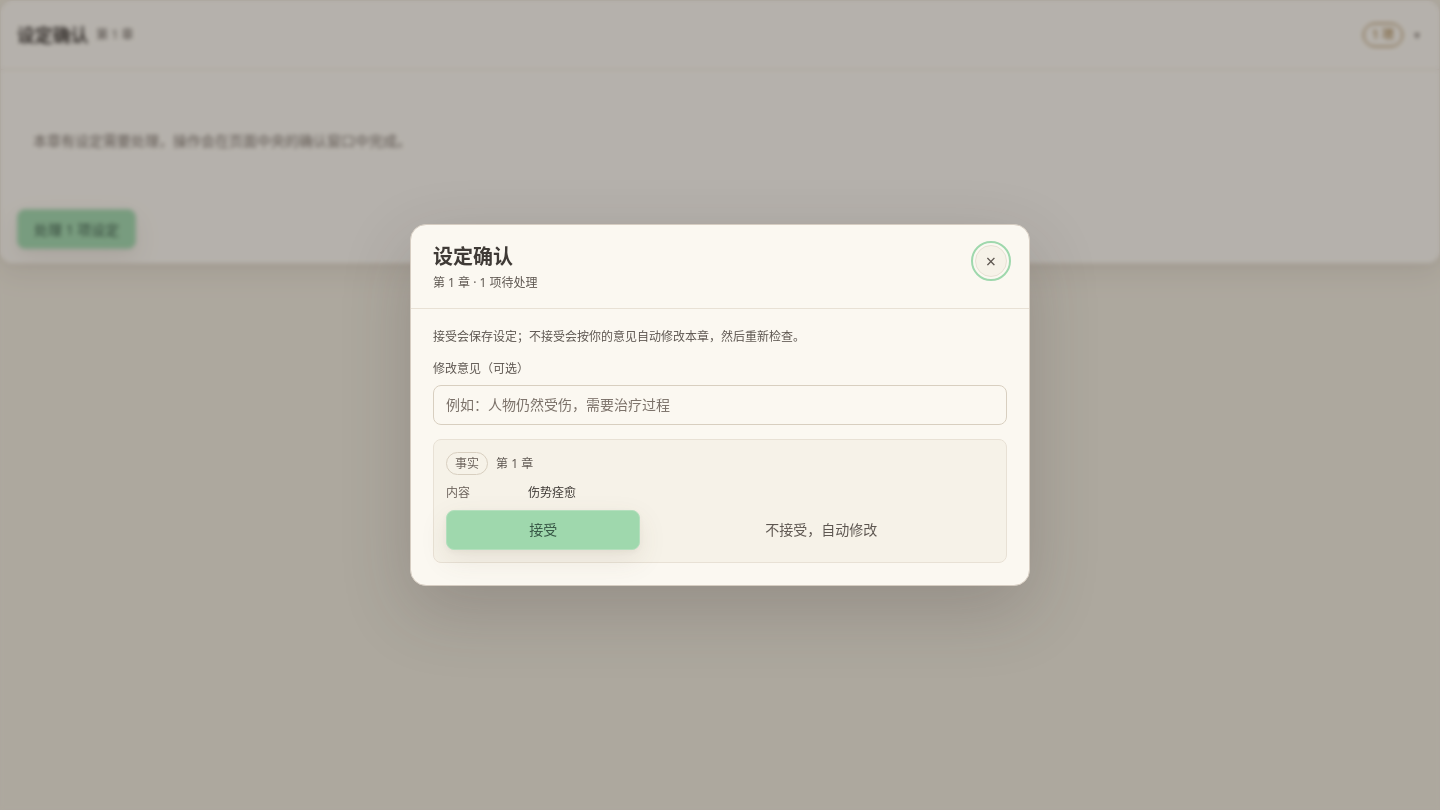
Test case: one rejection saves the reason and starts revision without another click
Type "需要治疗" into the field labelled "修改意见（可选）" at x=720, y=405, box [433,385,1007,425]
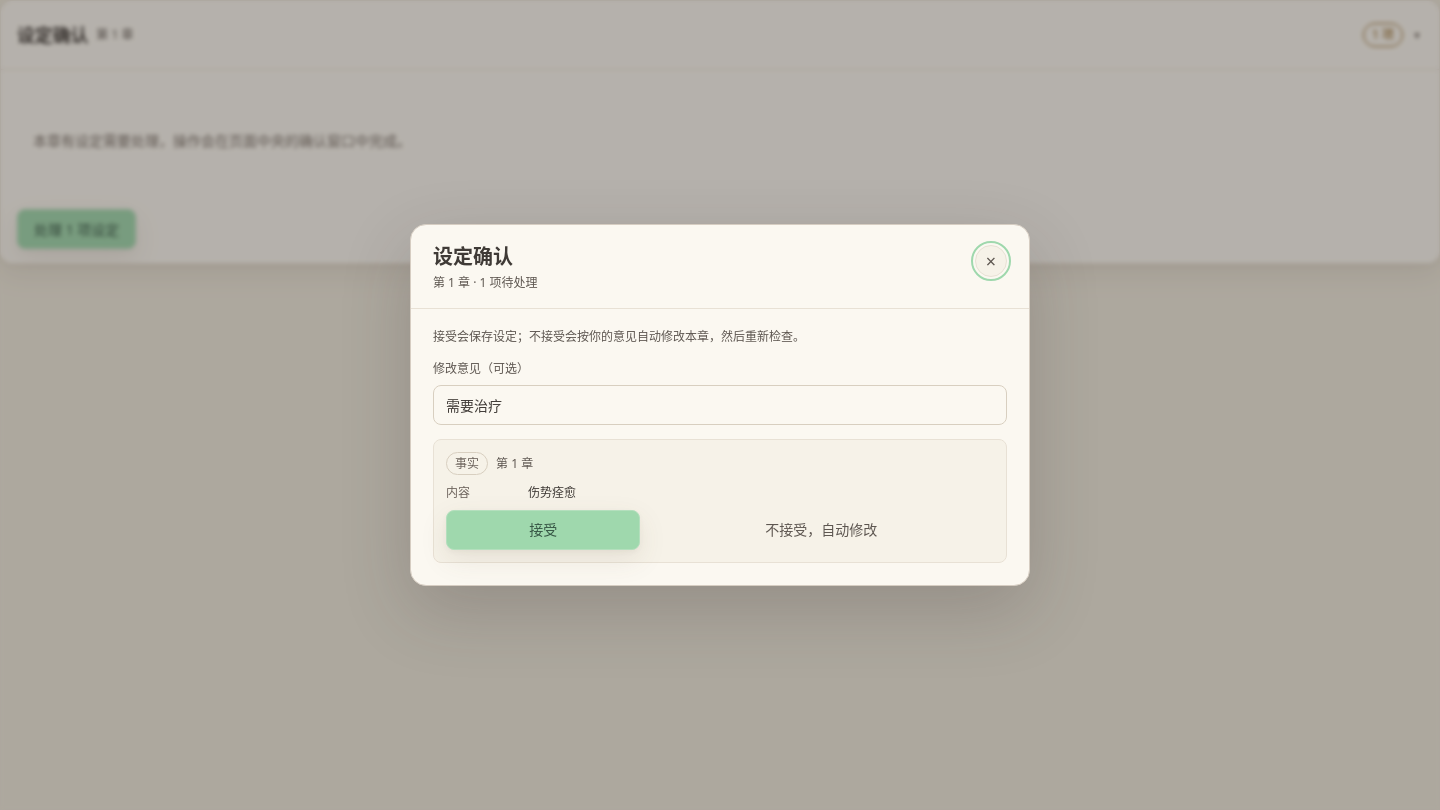
Click the button "不接受，自动修改" at x=821, y=530, box [648,510,994,550]
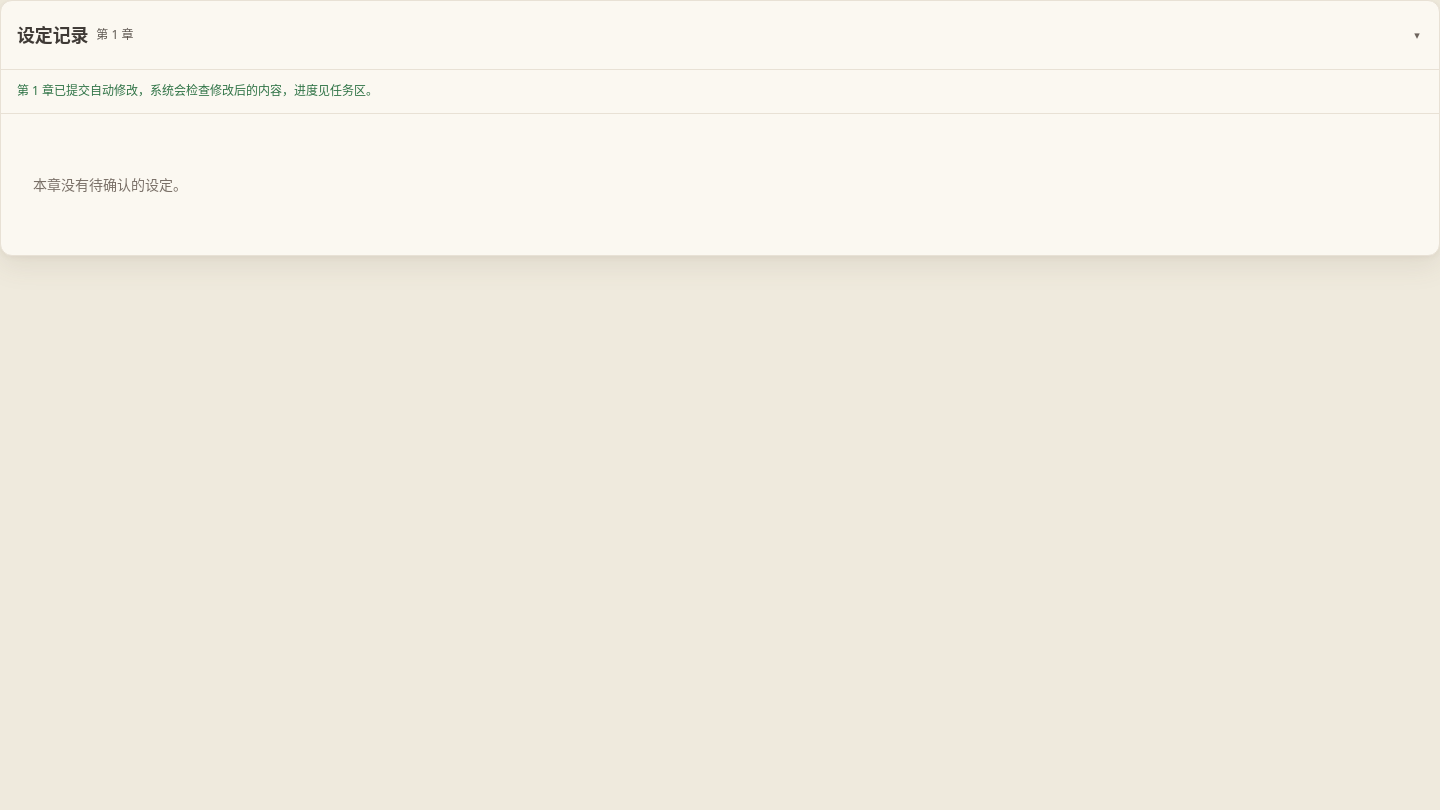
Now the message shows "已提交自动修改", box [17,82,378,99]
Now the button "不接受，自动修改" is gone
